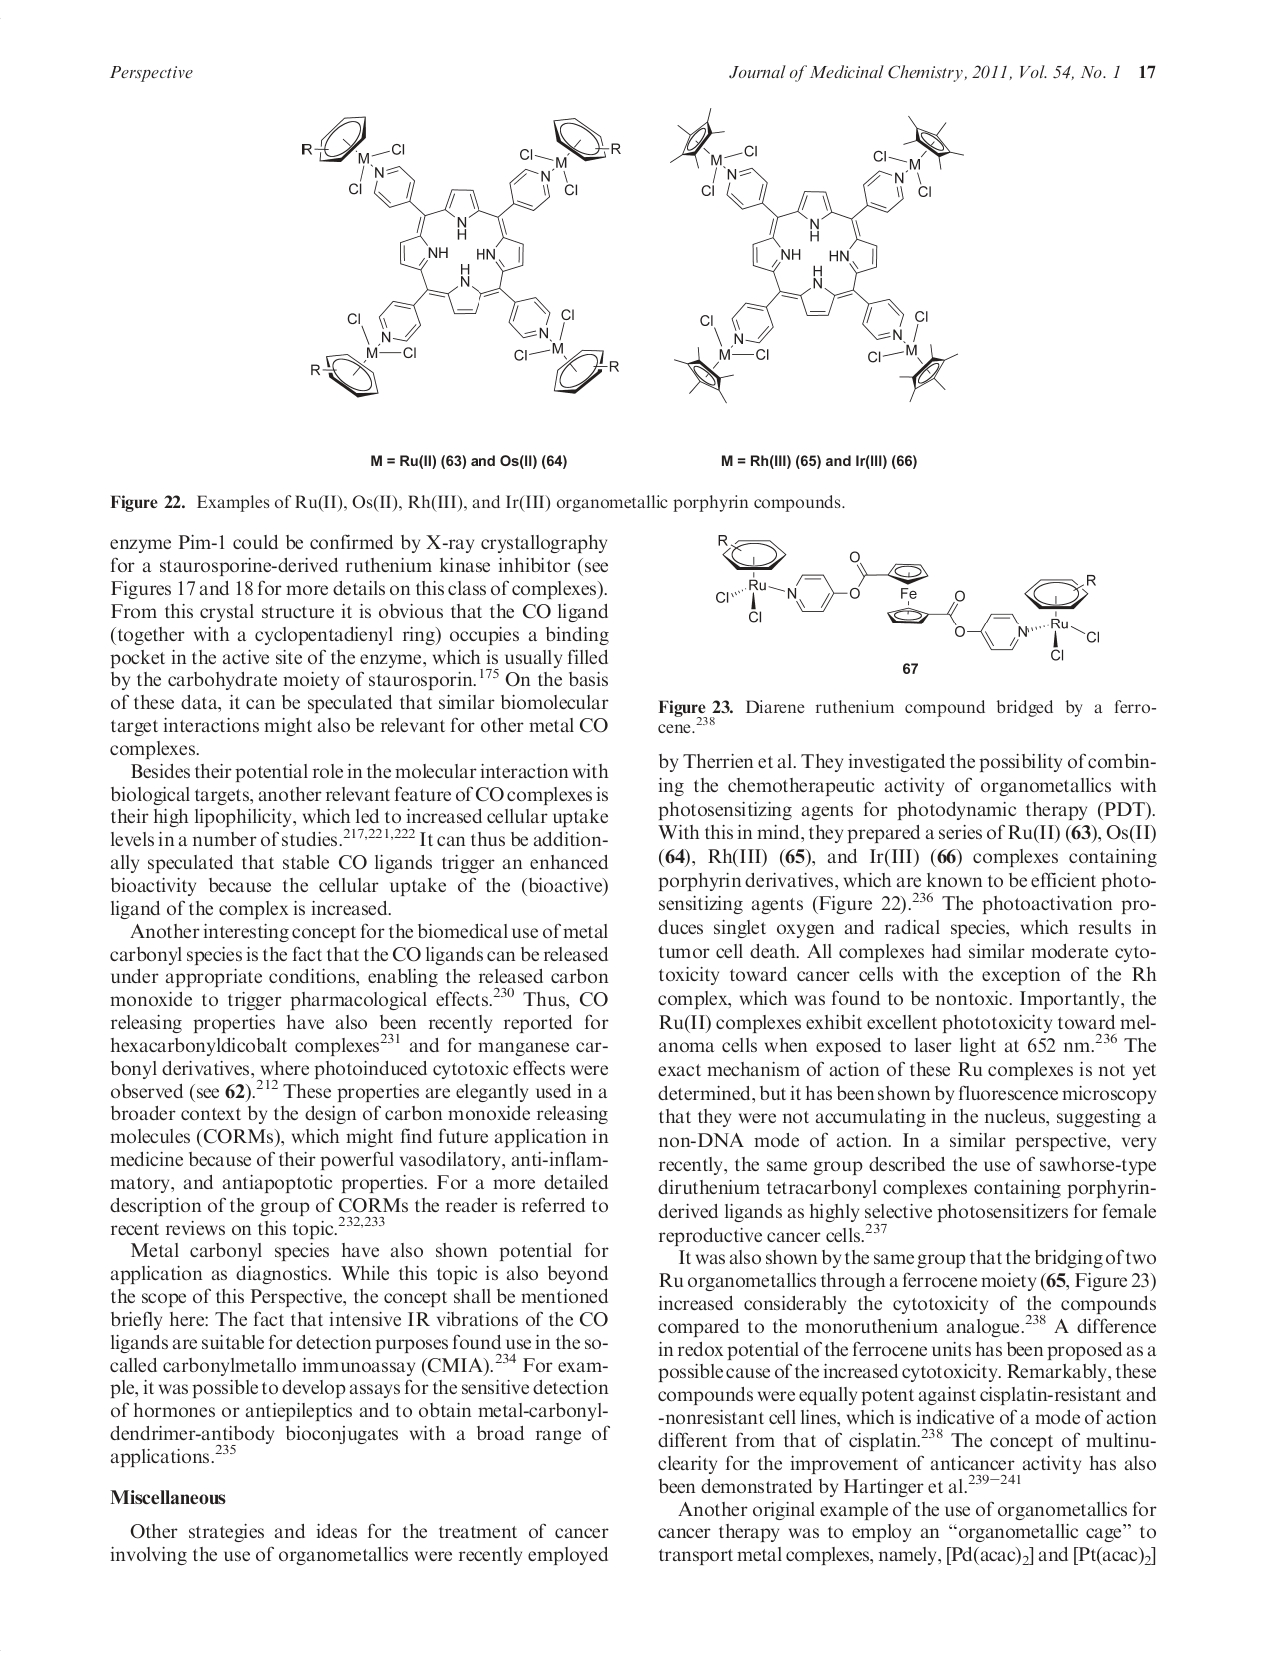exist_molecular: (294, 112, 626, 403), (664, 106, 969, 406), (707, 528, 1104, 668)
